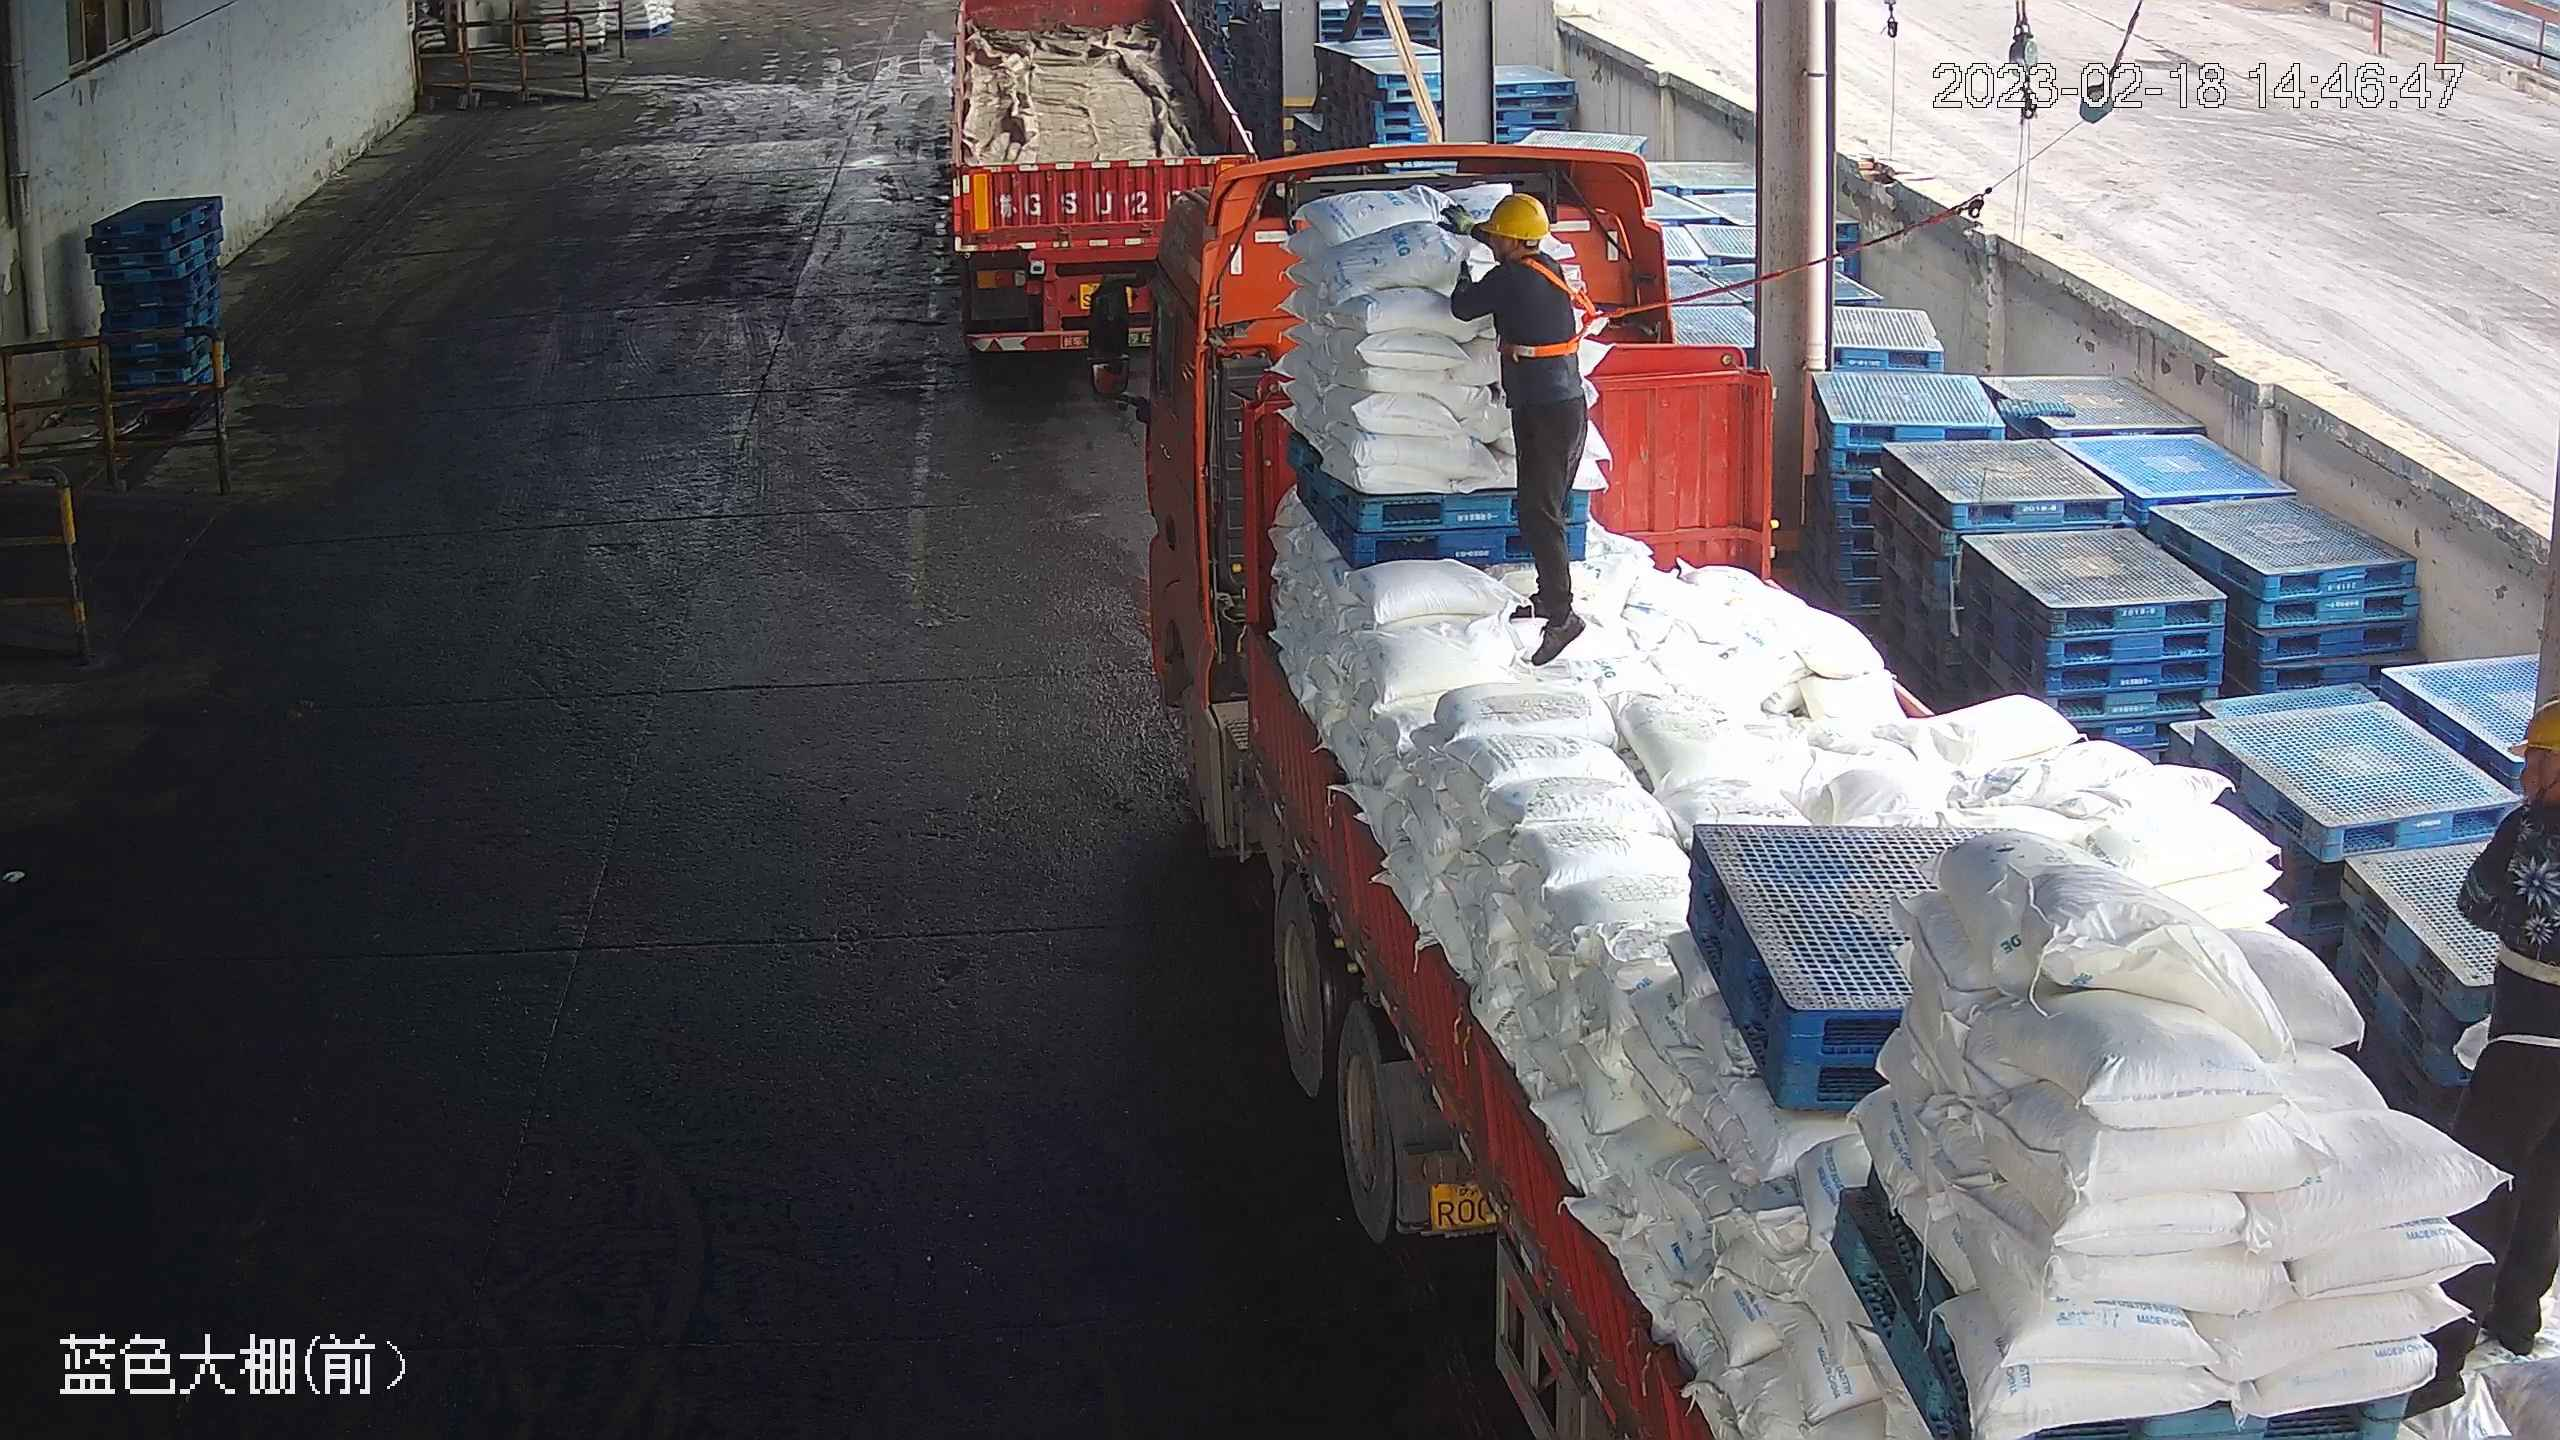belt: (1501, 248, 1615, 364), (2511, 814, 2559, 995)
head: (1468, 190, 1581, 319), (2485, 693, 2560, 866)
helmet: (1481, 190, 1551, 241), (2513, 693, 2560, 764)
people: (2429, 687, 2559, 1429), (1445, 190, 1603, 662)
truck: (1089, 138, 2559, 1440), (947, 2, 1261, 359)
